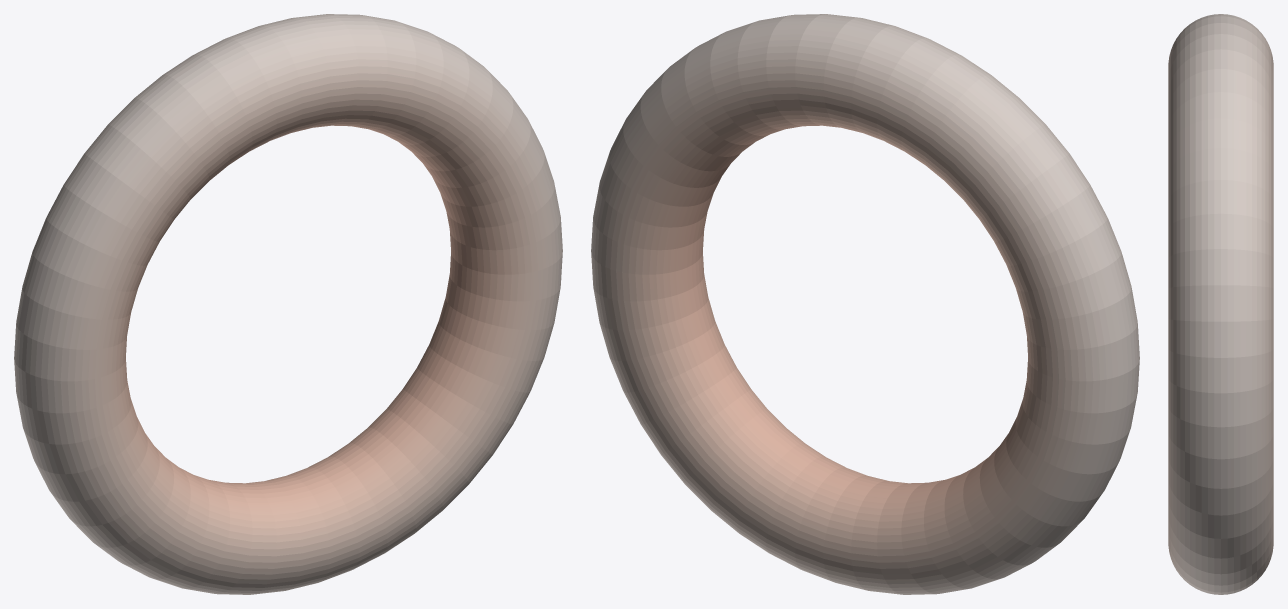
The picture shows the model from 3 angles, left to right: view 1: azimuth 30°, elevation 25°; view 2: azimuth 150°, elevation 25°; view 3: azimuth 270°, elevation 25°; orthographic projection. The views are drawn at different scales.
Parts seen in each view (by area): view 1: world; view 2: world; view 3: world.
Boxes of the visible parts, x1=… form: world: x1=14, y1=14, x2=562, y2=594; world: x1=591, y1=14, x2=1139, y2=594; world: x1=1168, y1=14, x2=1273, y2=594.
Bounding box in the file's own units: 30.13 × 30.07 × 5.46.
